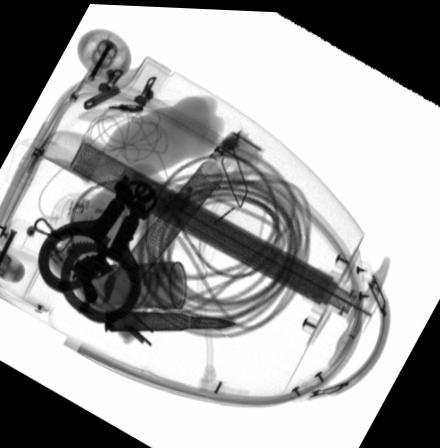Bullet: (103, 310, 236, 332)
Gun: (72, 242, 129, 304)
HandCuffs: (35, 172, 157, 323)
